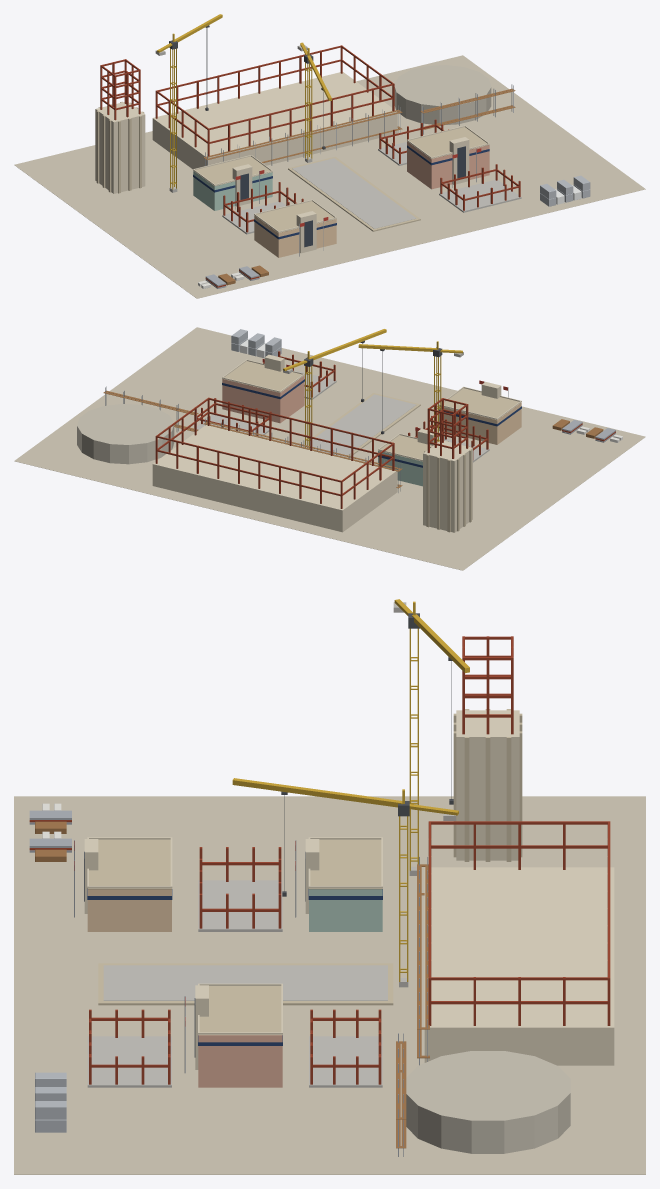
File: mega_exposition_2.glb
3 views of the same model, one above another, from view 1: azimuth 30°, elevation 25°; view 2: azimuth 150°, elevation 25°; view 3: azimuth 270°, elevation 25° (orthographic). The views are drawn at different scales.
Parts seen in each view (by area): view 1: mega_exposition_2; view 2: mega_exposition_2; view 3: mega_exposition_2.
Boxes of the visible parts, <box> form: mega_exposition_2: <box>14,14,645,298</box>; mega_exposition_2: <box>14,327,645,570</box>; mega_exposition_2: <box>14,599,645,1174</box>.
Bounding box in the file's own units: 170 × 57 × 120.
